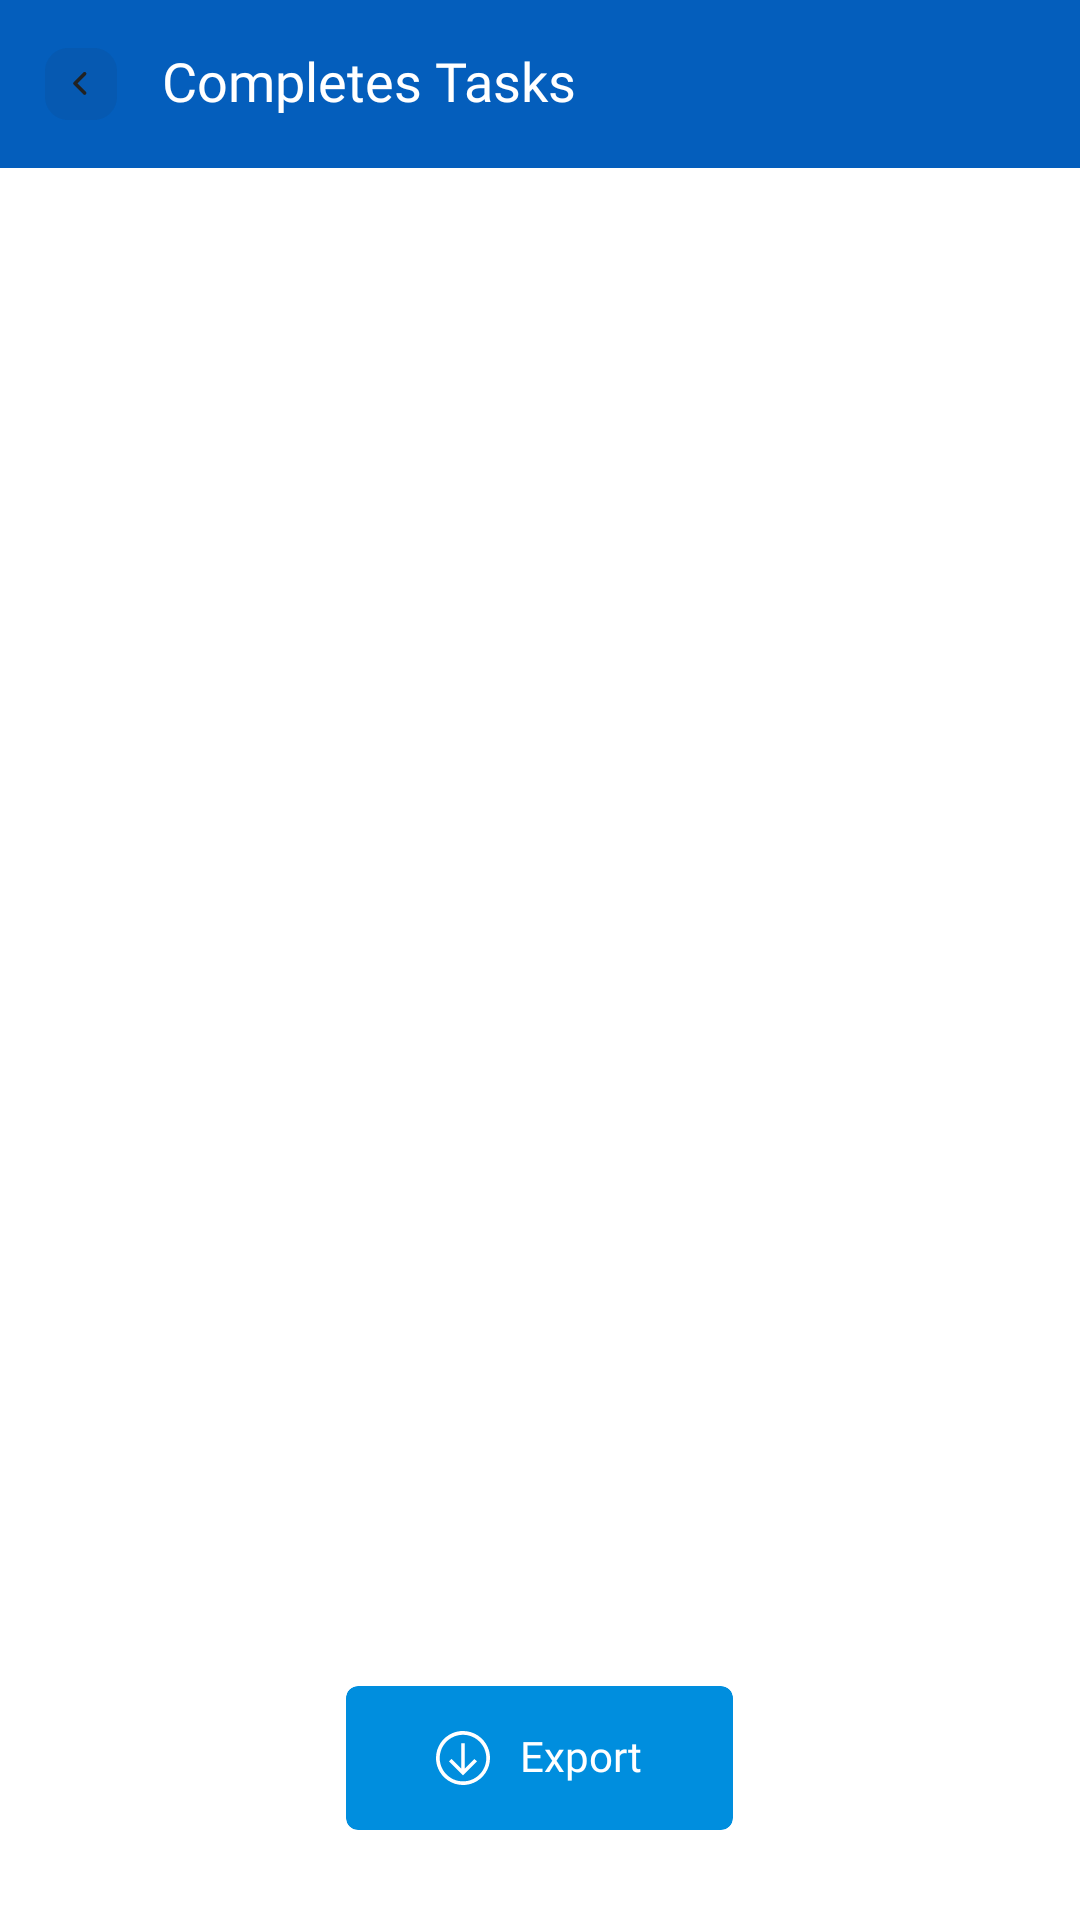

Screen size 1080px×1920px. Icon name, then its box in pixels as [x1, y1, x2, y2]:
back: [45, 48, 117, 120]
